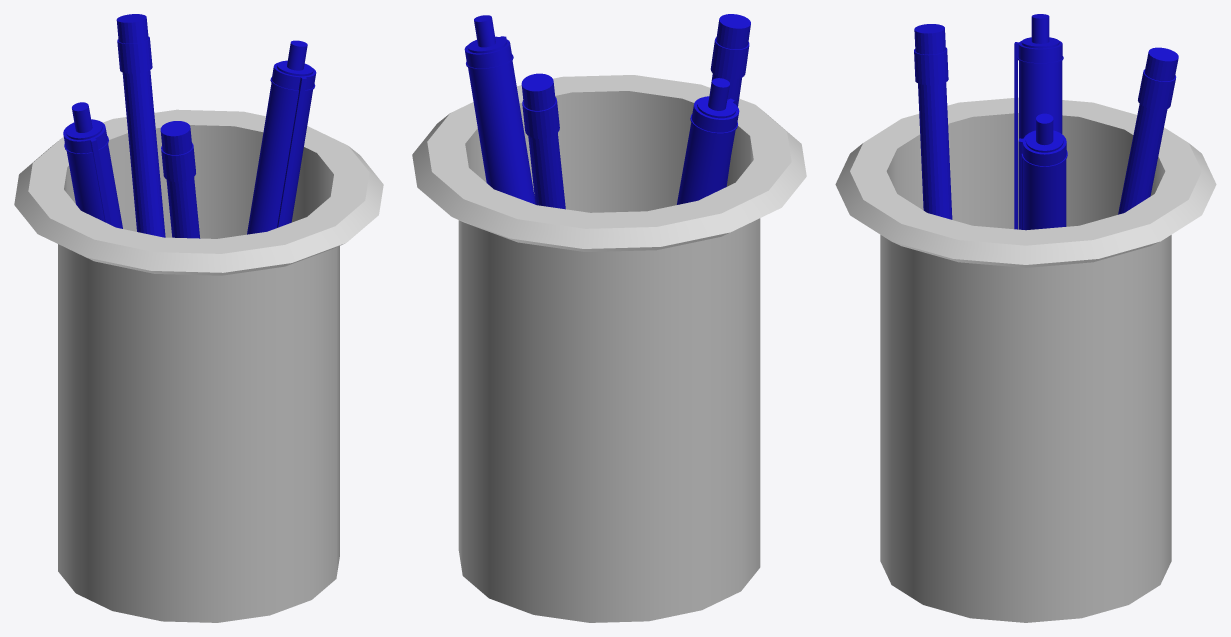
The model's file is pennenbakje.FBX.
3 views of the same model, side by side, from view 1: azimuth 30°, elevation 25°; view 2: azimuth 150°, elevation 25°; view 3: azimuth 270°, elevation 25° (orthographic). The views are drawn at different scales.
Visible parts, largest first — view 1: pennenbakje, Pen 2, Pencil, Pen, Pencil 2; view 2: pennenbakje, Pen 2, Pen, Pencil, Pencil 2; view 3: pennenbakje, Pencil 2, Pen, Pen 2, Pencil.
Boxes of the visible parts, x1,y1,x2,y2 form: pennenbakje: (14,109,383,622); Pen 2: (247,40,316,234); Pencil: (116,14,165,237); Pen: (63,102,122,228); Pencil 2: (160,121,200,238); pennenbakje: (412,75,806,622); Pen 2: (464,15,535,204); Pen: (677,78,739,204); Pencil: (521,73,565,209); Pencil 2: (710,14,750,186); pennenbakje: (835,97,1216,622); Pencil 2: (914,24,952,219); Pen: (1014,14,1063,229); Pen 2: (1018,113,1067,230); Pencil: (1118,47,1178,214).
Size of the model in its own units: 26.19 by 38.78 by 26.19.
